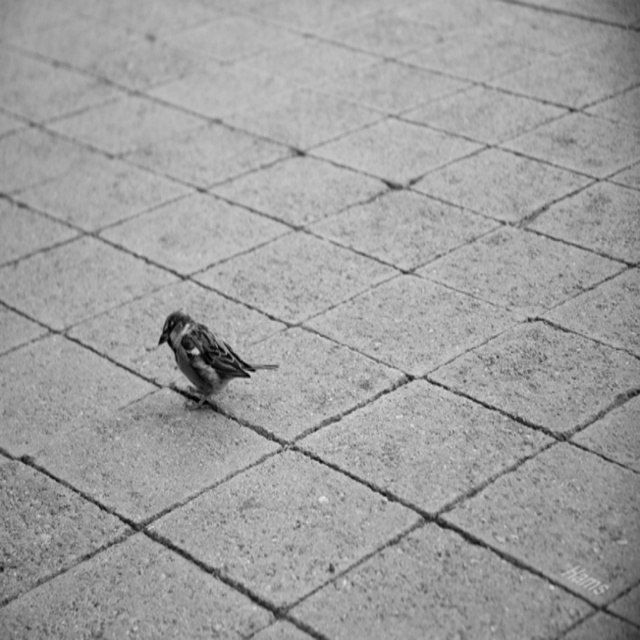Sparrow: (156, 309, 278, 414)
